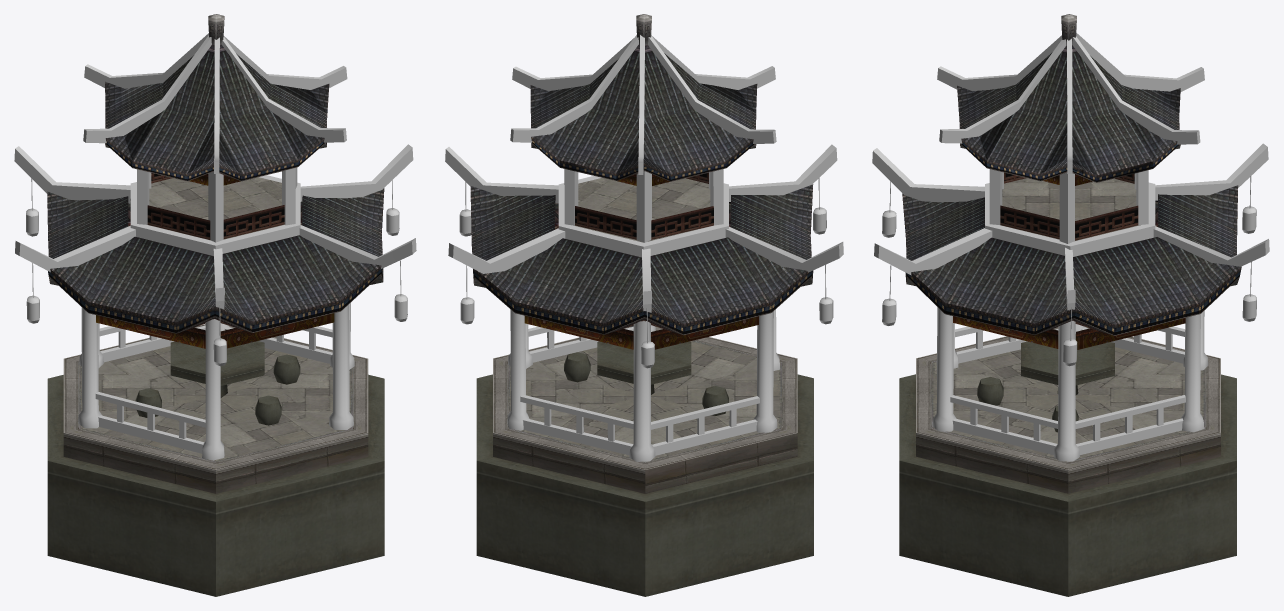
File: s7_3d_jz_tingzi.FBX
The picture shows the model from 3 angles, left to right: view 1: azimuth 30°, elevation 25°; view 2: azimuth 150°, elevation 25°; view 3: azimuth 270°, elevation 25°; orthographic projection.
Visible parts, largest first — view 1: 003, 002, 001, 004; view 2: 002, 003, 001, 004; view 3: 002, 003, 001, 004.
Part boxes in pixels (bbox=[...]): 003: bbox=[47, 14, 384, 596]; 002: bbox=[47, 45, 384, 333]; 001: bbox=[14, 33, 416, 460]; 004: bbox=[63, 177, 368, 493]; 002: bbox=[470, 44, 813, 335]; 003: bbox=[476, 14, 813, 596]; 001: bbox=[445, 34, 843, 461]; 004: bbox=[493, 178, 797, 493]; 002: bbox=[902, 45, 1241, 335]; 003: bbox=[899, 14, 1236, 596]; 001: bbox=[872, 33, 1269, 461]; 004: bbox=[916, 178, 1220, 493].
Size of the model in its own units: 5.77 by 6.98 by 5.02.
